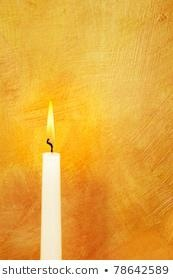fire: (45, 97, 58, 141)
